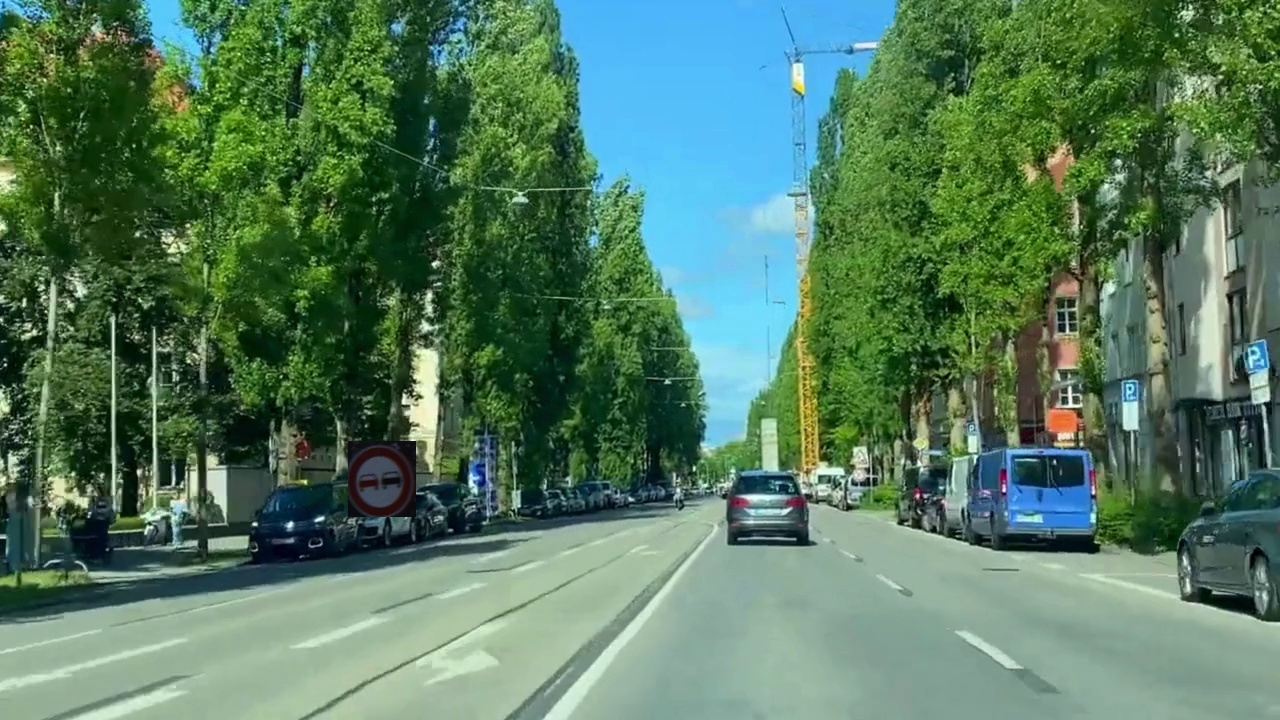No passing: (348, 441, 416, 517)
